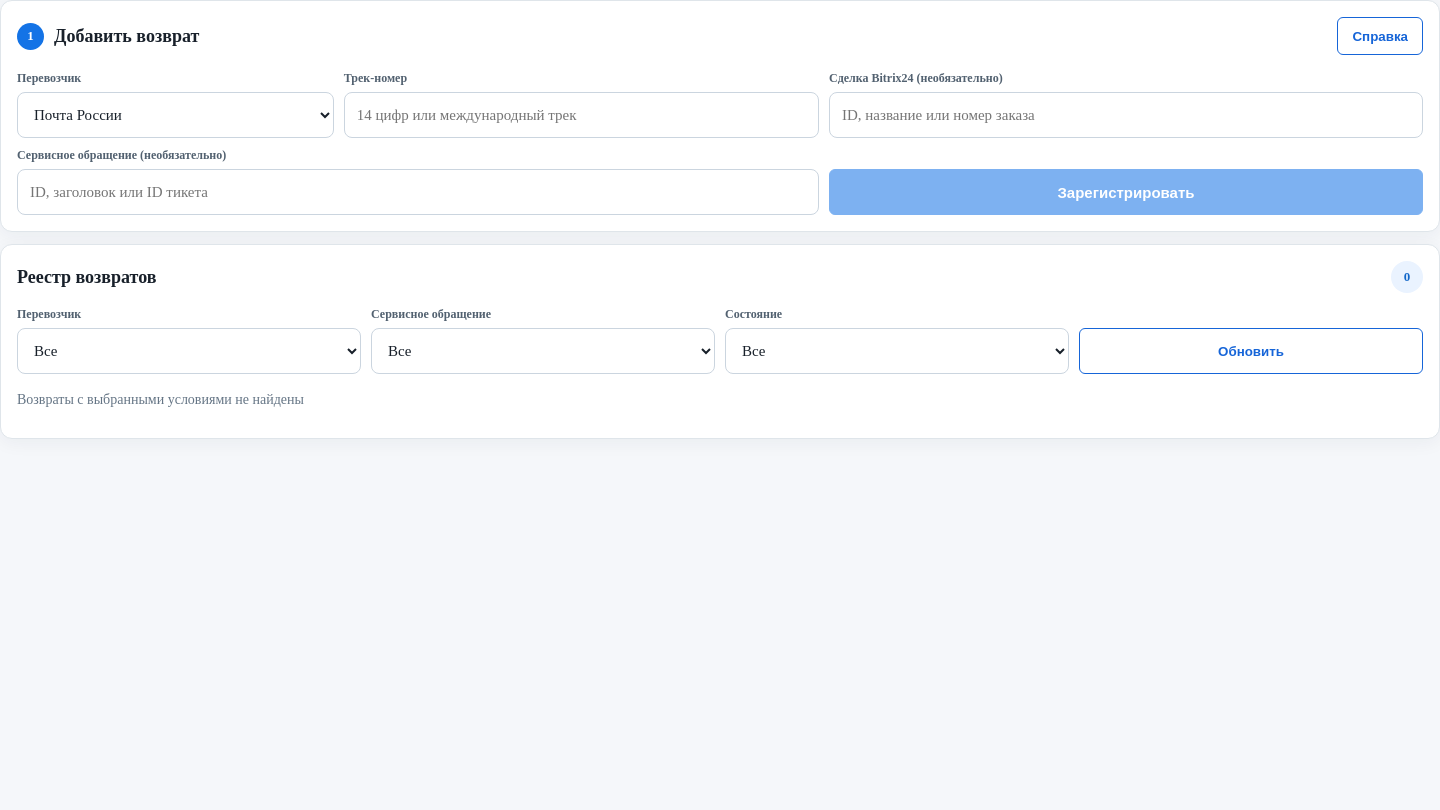
Test: CustomerReturnsWorkspace › регистрирует возврат с обращением, выбранным с клавиатуры
Expected: the text "Возвраты с выбранными условиями не найдены" is shown, [17, 392, 304, 407]
Select "СДЭК" in the dropdown named "Перевозчик возврата": x=175, y=115 [17, 92, 334, 138]
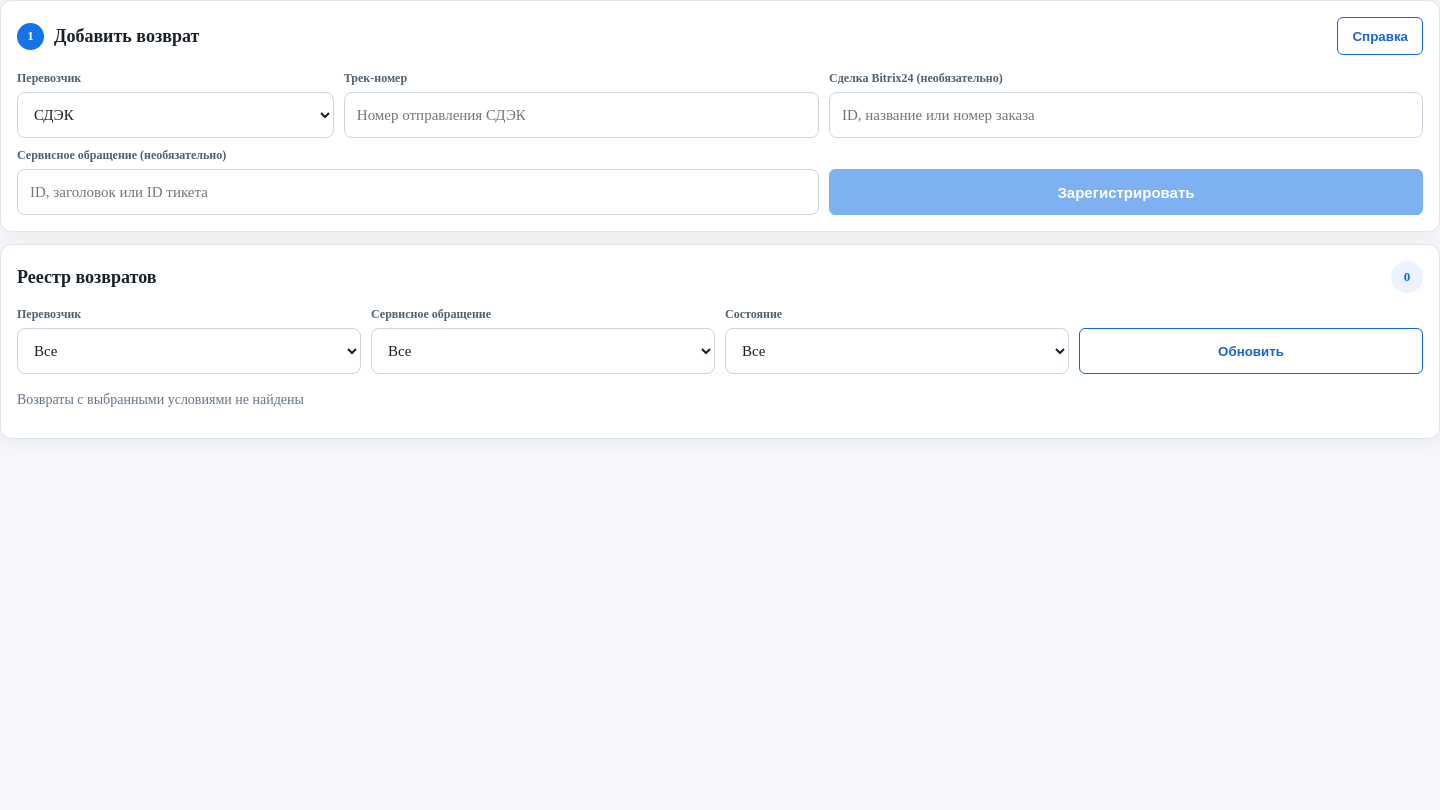
In the field named "Трек-номер возврата": x=581, y=115 [344, 92, 819, 138], type "CDEK-SERVICE-3507"
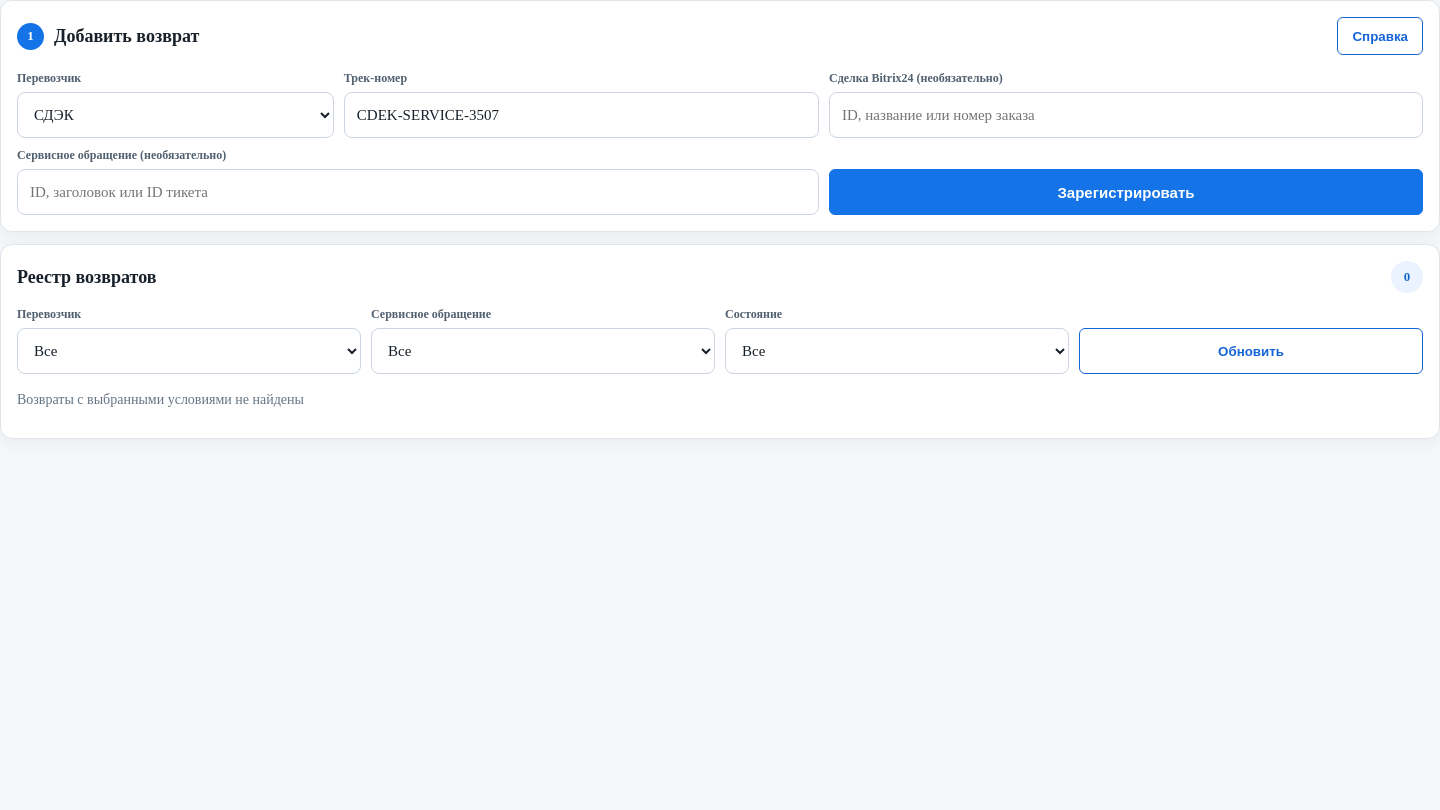
In the dropdown named "Сервисное обращение (необязательно)": x=418, y=192 [17, 169, 819, 215], type "113401"
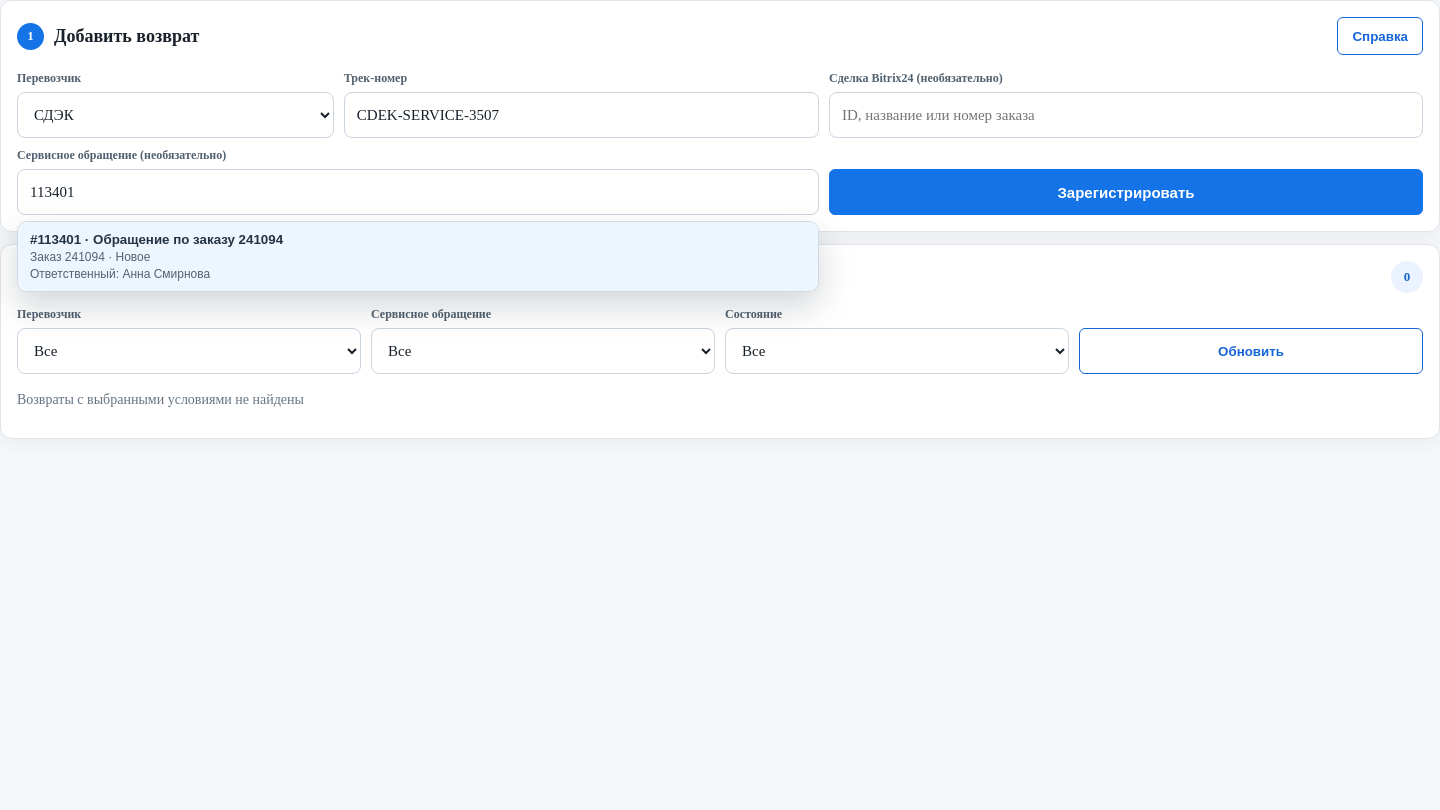
Expected: the option "Обращение по заказу 241094" is shown, [18, 222, 818, 291]
Press Enter in the dropdown named "Сервисное обращение (необязательно)", box [17, 169, 819, 215]
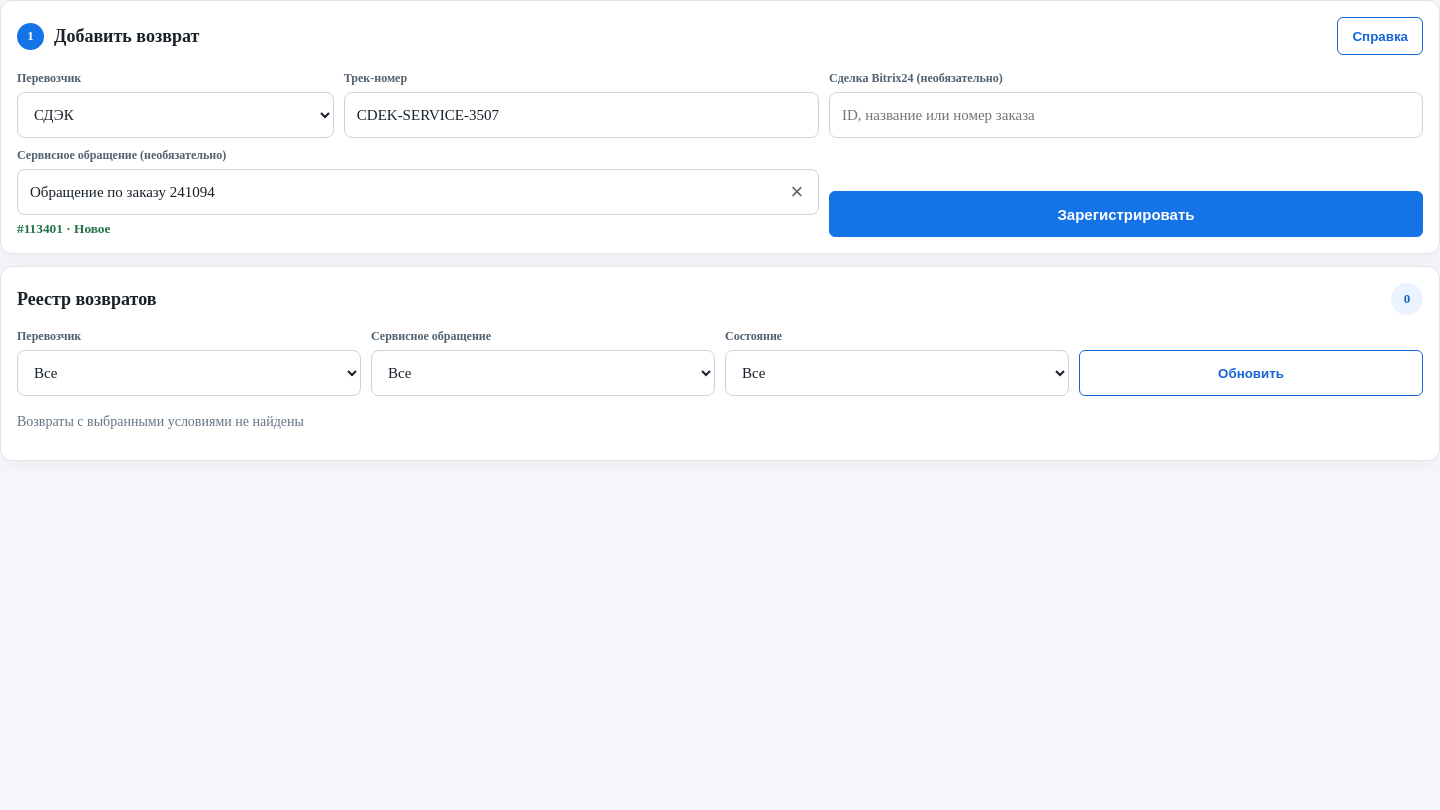
Click the button "Зарегистрировать": x=1126, y=214 [829, 191, 1423, 237]
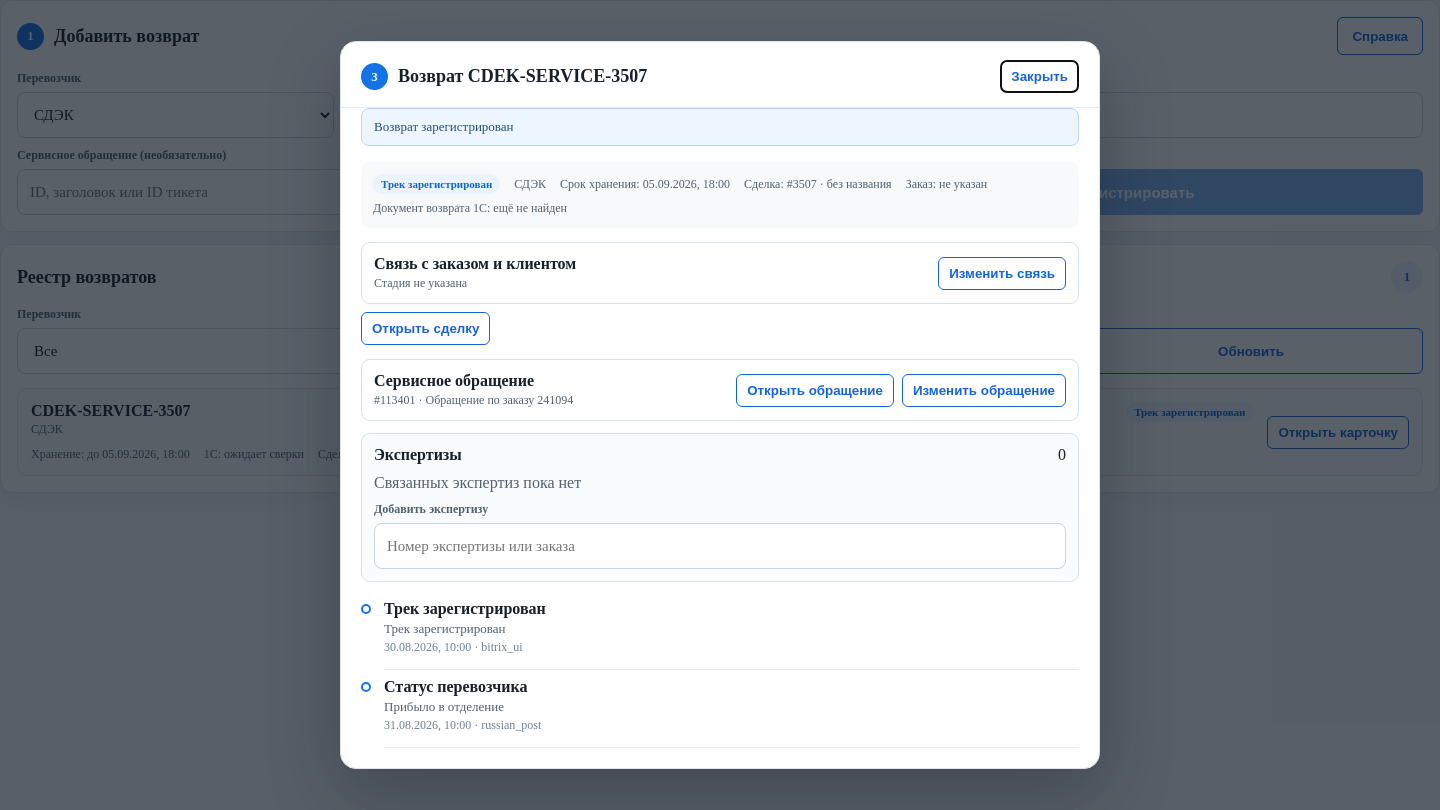
Expected: the text "#113401 · Обращение по заказу 241094" is shown, [374, 393, 573, 408]
